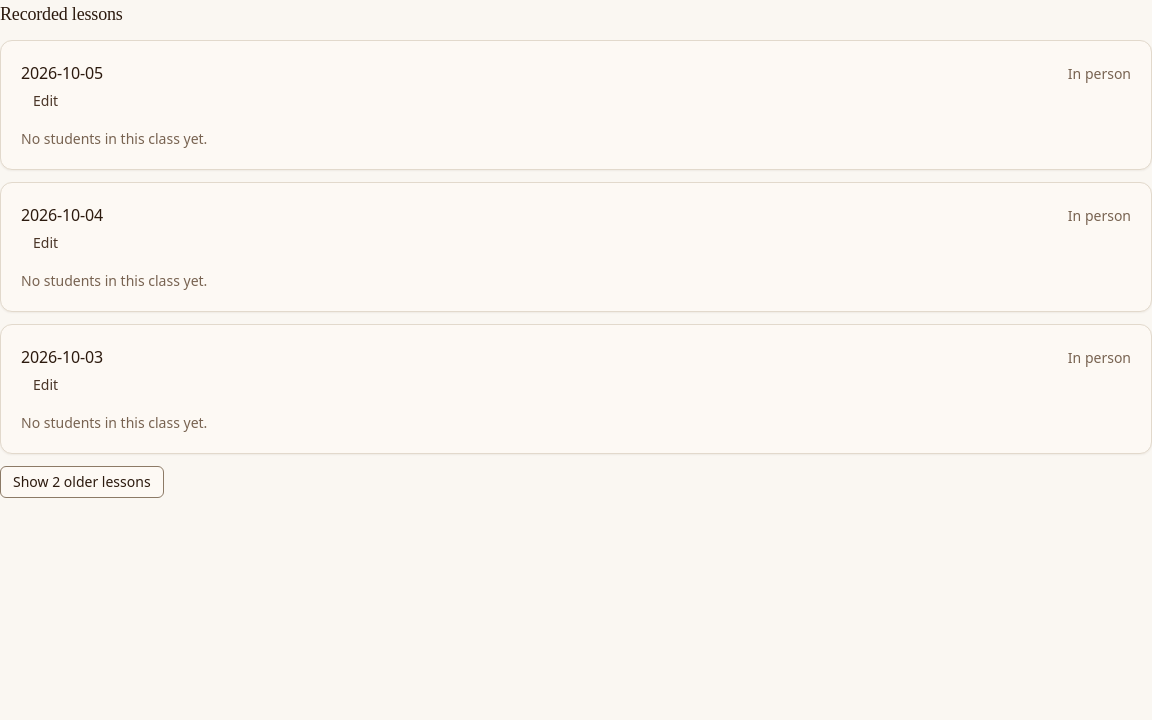
Test case: only the latest three lessons fetch a register until older ones are asked for
What coordinates should you click on to do the following:
click the button "Show 2 older lessons"
I would click on:
 (82, 482)
Its box is [0,466,164,498].
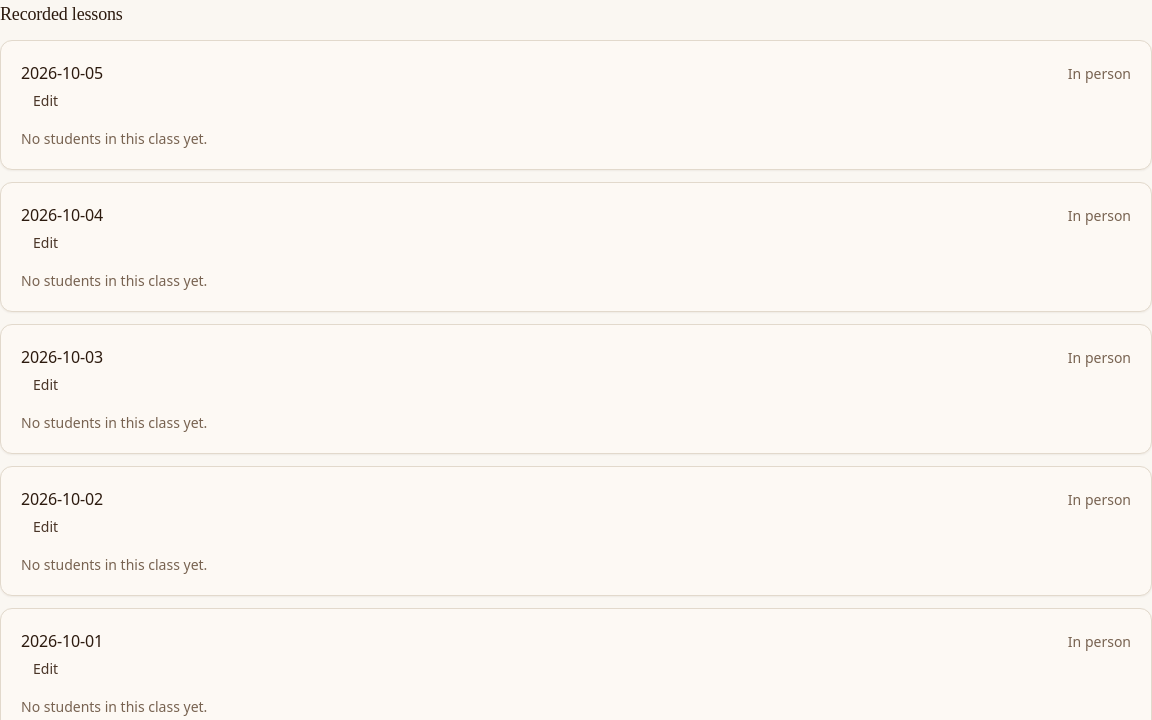
Result: the text "No students in this class yet." is shown 5 times at [21,129,207,148]; [21,271,207,290]; [21,413,207,432]; [21,555,207,574]; [21,697,207,716]
